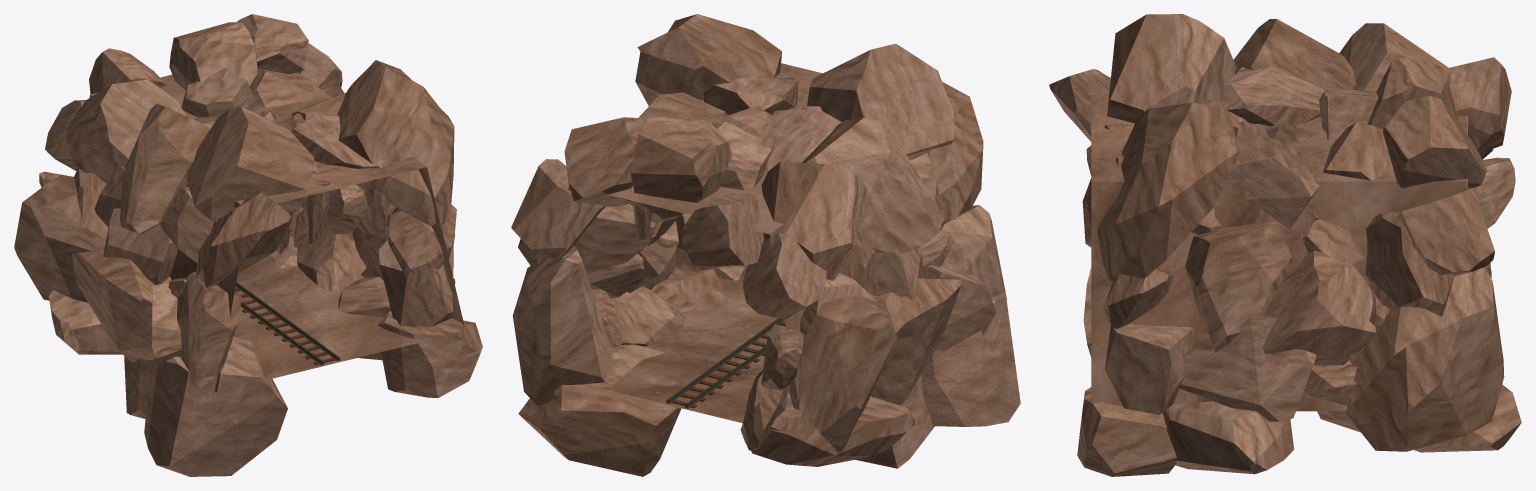
Rendered from MESH_Cave_Loop_3.fbx.
3 renders of one model, left to right at view 1: azimuth 30°, elevation 25°; view 2: azimuth 150°, elevation 25°; view 3: azimuth 270°, elevation 25°, orthographic. The views are drawn at different scales.
Visible parts, largest first — view 1: Ground.002, Rock1.062, Rock2.070, Rock1.057, Rock2.080, Rock2.083, Rock1.061, Rock1.064, Rock2.079, Rock2.077, Rock2.074, Rock1.065 (+26 smaller); view 2: Ground.002, Rock2.067, Rock2.086, Rock2.080, Rock1.057, Rock2.083, Rock2.070, Rock1.062, Rock1.061, Rock1.065, Rock2.079, Rock2.087 (+29 smaller); view 3: Ground.002, Rock2.067, Rock2.070, Rock1.057, Rock2.061, Rock1.051, Rock2.066, Rock2.085, Rock1.066, Rock1.044, Rock1.064, Rock1.052 (+20 smaller).
Part boxes in pixels (left/top/right/bottom): Ground.002: left=89, top=72, right=464, bottom=391; Rock1.062: left=144, top=336, right=287, bottom=476; Rock2.070: left=337, top=60, right=454, bottom=227; Rock1.057: left=186, top=106, right=314, bottom=222; Rock2.080: left=14, top=175, right=108, bottom=302; Rock2.083: left=120, top=104, right=209, bottom=234; Rock1.061: left=66, top=79, right=186, bottom=183; Rock1.064: left=378, top=311, right=482, bottom=397; Rock2.079: left=71, top=246, right=171, bottom=362; Rock2.077: left=195, top=190, right=290, bottom=287; Rock2.074: left=177, top=271, right=241, bottom=387; Rock1.065: left=169, top=22, right=257, bottom=90; Ground.002: left=568, top=63, right=930, bottom=438; Rock2.067: left=512, top=246, right=612, bottom=405; Rock2.086: left=518, top=344, right=681, bottom=476; Rock2.080: left=795, top=294, right=896, bottom=452; Rock1.057: left=807, top=43, right=954, bottom=155; Rock2.083: left=802, top=116, right=945, bottom=253; Rock2.070: left=635, top=14, right=781, bottom=105; Rock1.062: left=921, top=292, right=1020, bottom=426; Rock1.061: left=761, top=161, right=871, bottom=280; Rock1.065: left=630, top=116, right=732, bottom=214; Rock2.079: left=871, top=278, right=961, bottom=405; Rock2.087: left=741, top=391, right=917, bottom=466; Ground.002: left=1091, top=94, right=1467, bottom=411; Rock2.067: left=1345, top=267, right=1504, bottom=451; Rock2.070: left=1097, top=102, right=1239, bottom=281; Rock1.057: left=1107, top=14, right=1236, bottom=123; Rock2.061: left=1185, top=221, right=1291, bottom=352; Rock1.051: left=1263, top=251, right=1376, bottom=365; Rock2.066: left=1179, top=315, right=1316, bottom=421; Rock2.085: left=1162, top=401, right=1294, bottom=474; Rock1.066: left=1382, top=95, right=1486, bottom=188; Rock1.044: left=1105, top=324, right=1194, bottom=415; Rock1.064: left=1077, top=387, right=1176, bottom=476; Rock1.052: left=1397, top=187, right=1494, bottom=276.
Size of the model in its own units: 26.09 by 23.55 by 25.09.
